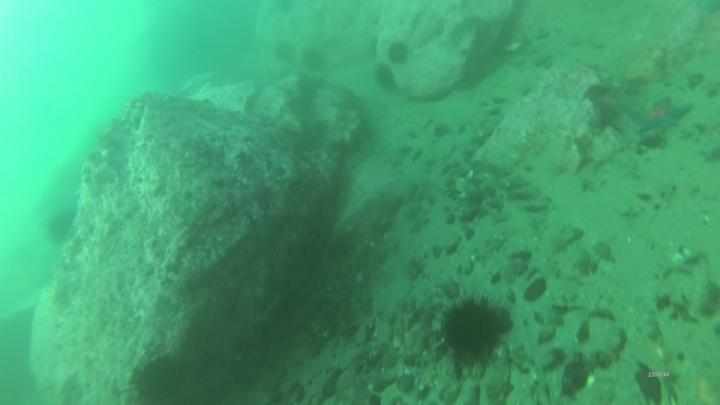echinus: (443, 301, 500, 357), (47, 214, 74, 240), (374, 69, 394, 91), (303, 51, 323, 71), (389, 44, 409, 63), (274, 45, 293, 61)
starfish: (626, 95, 695, 130)
